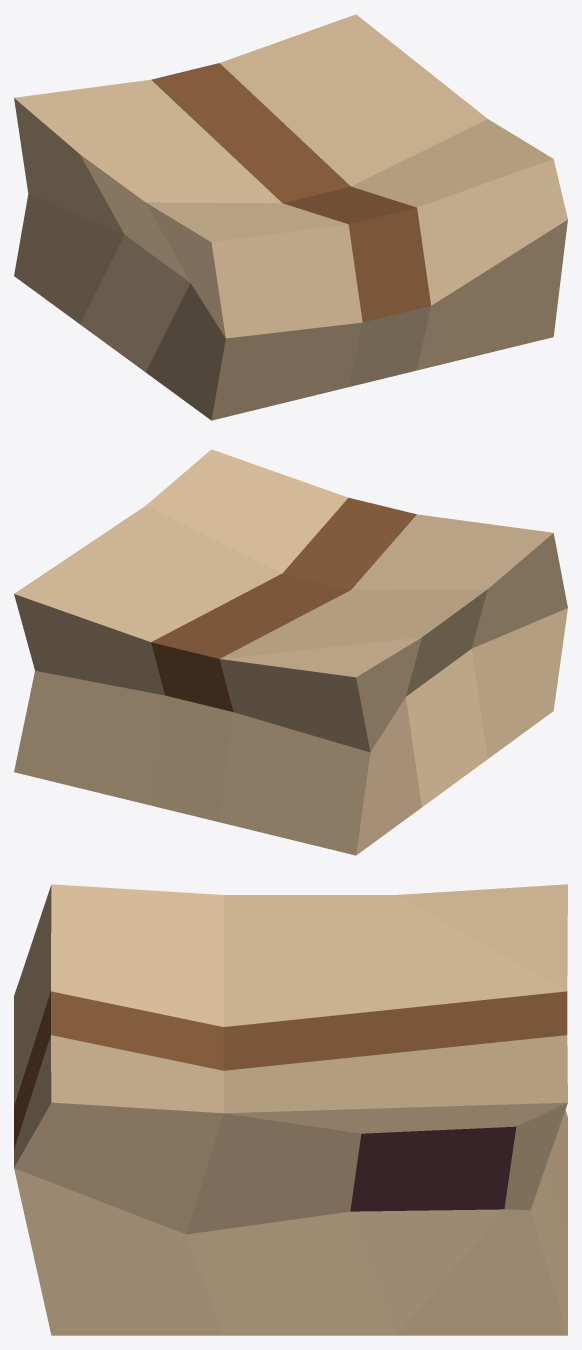
File: package-box-crashed.fbx
The picture shows the model from 3 angles, top to bottom: view 1: azimuth 30°, elevation 25°; view 2: azimuth 150°, elevation 25°; view 3: azimuth 270°, elevation 25°; orthographic projection. The views are drawn at different scales.
Visible parts, largest first — view 1: package-box-crashed; view 2: package-box-crashed; view 3: package-box-crashed.
Boxes of the visible parts, <box> form: package-box-crashed: <box>14,14,567,420</box>; package-box-crashed: <box>14,449,567,855</box>; package-box-crashed: <box>14,884,567,1335</box>.
Size of the model in its own units: 0.75 by 0.3734 by 0.8044.
